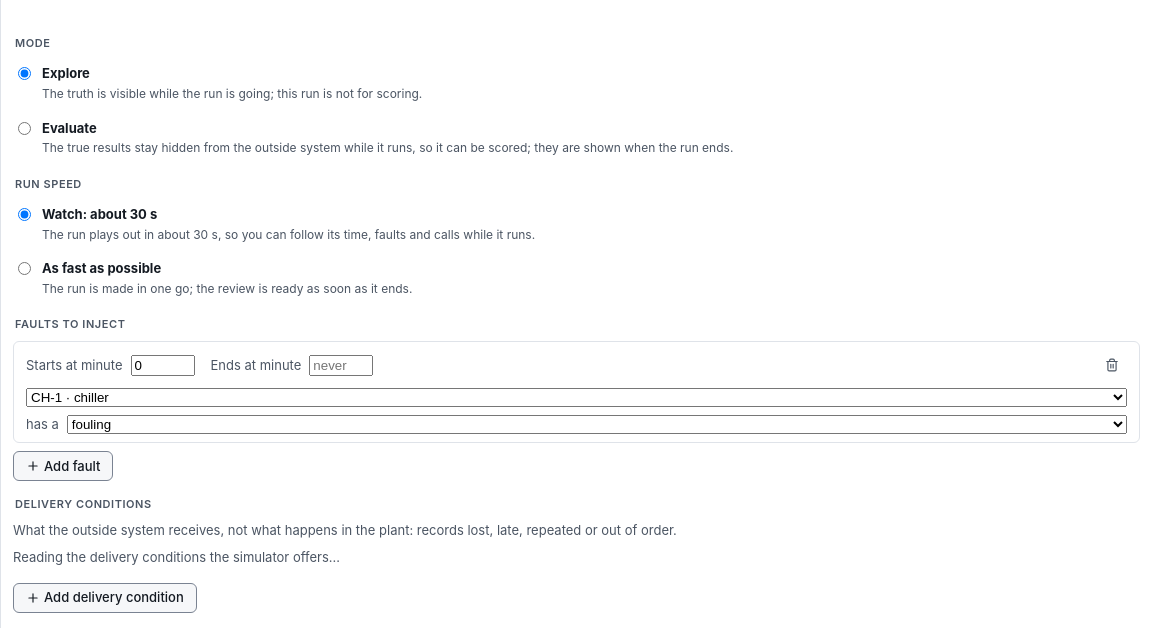
Scenario: a run that stops on a fault › says the run did not start, in the director's words, and keeps its message in a disclosure
(page scrolled)
Step 1. Click the radio button labelled "As fast as possible" → (24, 268), box top-left (18, 262), bottom-right (31, 275)
(page scrolled)
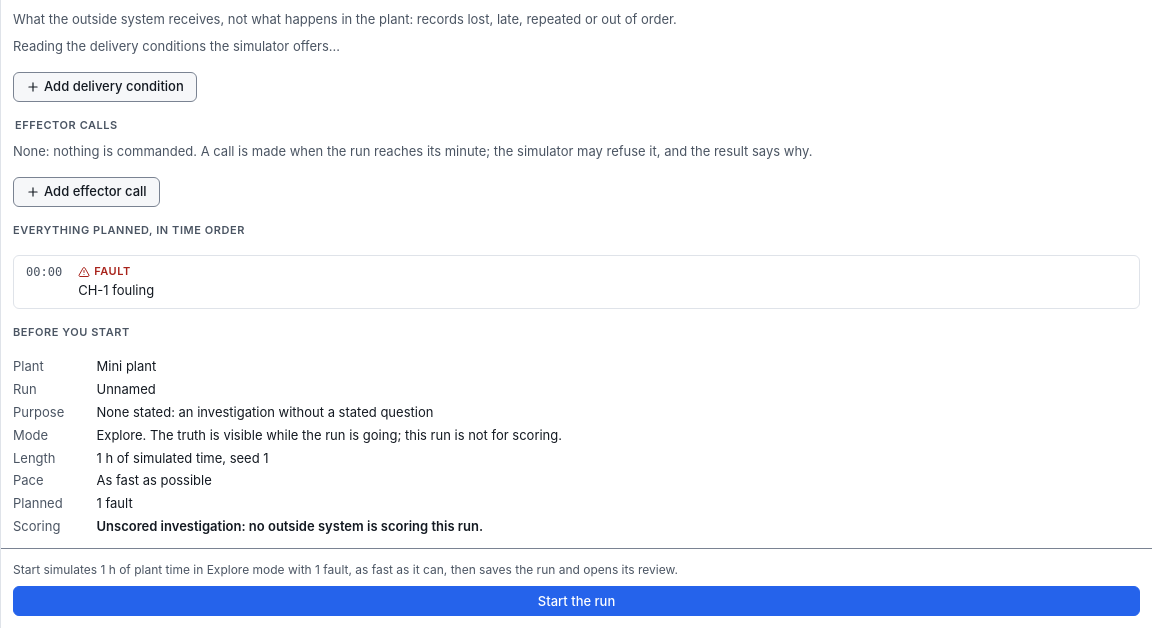
Step 2. Click the button "Start the run" → (576, 601), box top-left (13, 586), bottom-right (1140, 616)
(page scrolled)
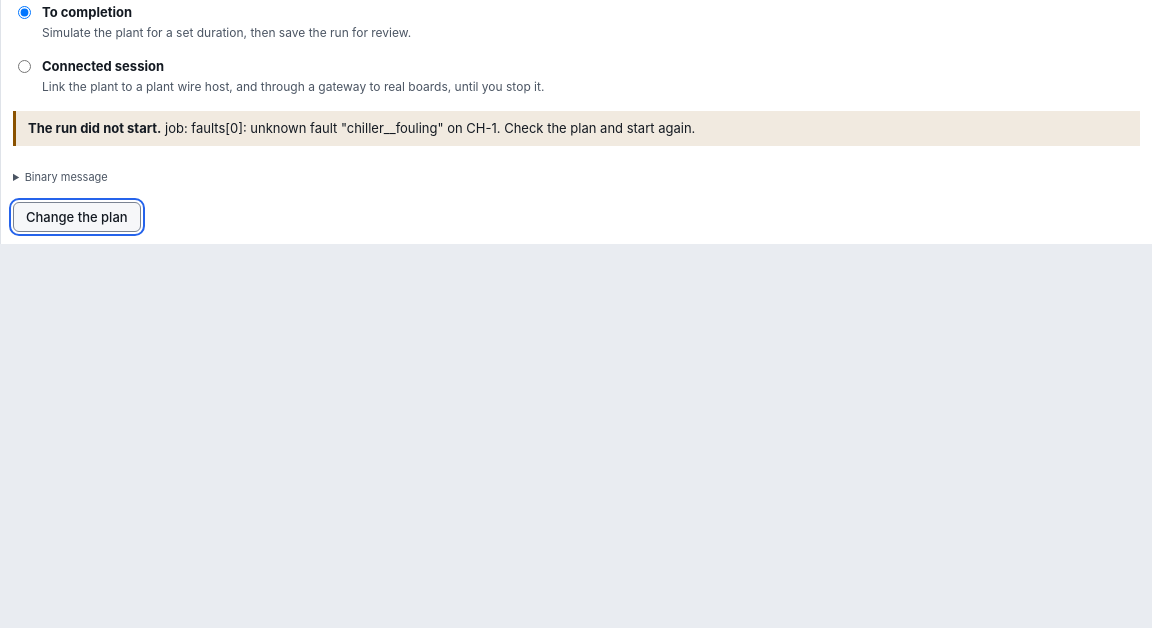
Check: the message does not show "kept as run", box top-left (1, 99), bottom-right (1151, 244)
Check: the message shows "The run did not start. job: faults[0]: unknown fault \"chiller__fouling\" on CH-1. Check the plan and start again.", box top-left (1, 99), bottom-right (1151, 244)
